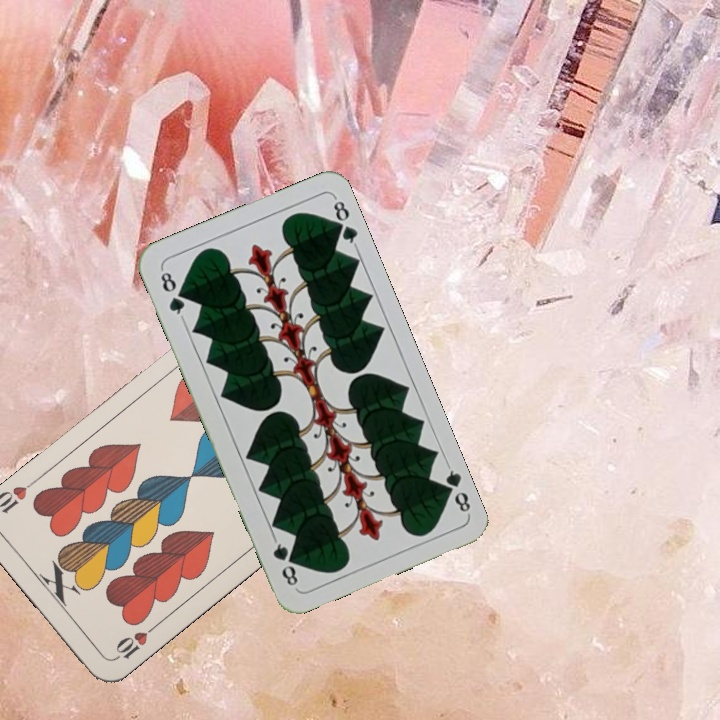G8: (436, 460, 474, 518), (156, 265, 188, 321)
H10: (109, 621, 159, 663)
